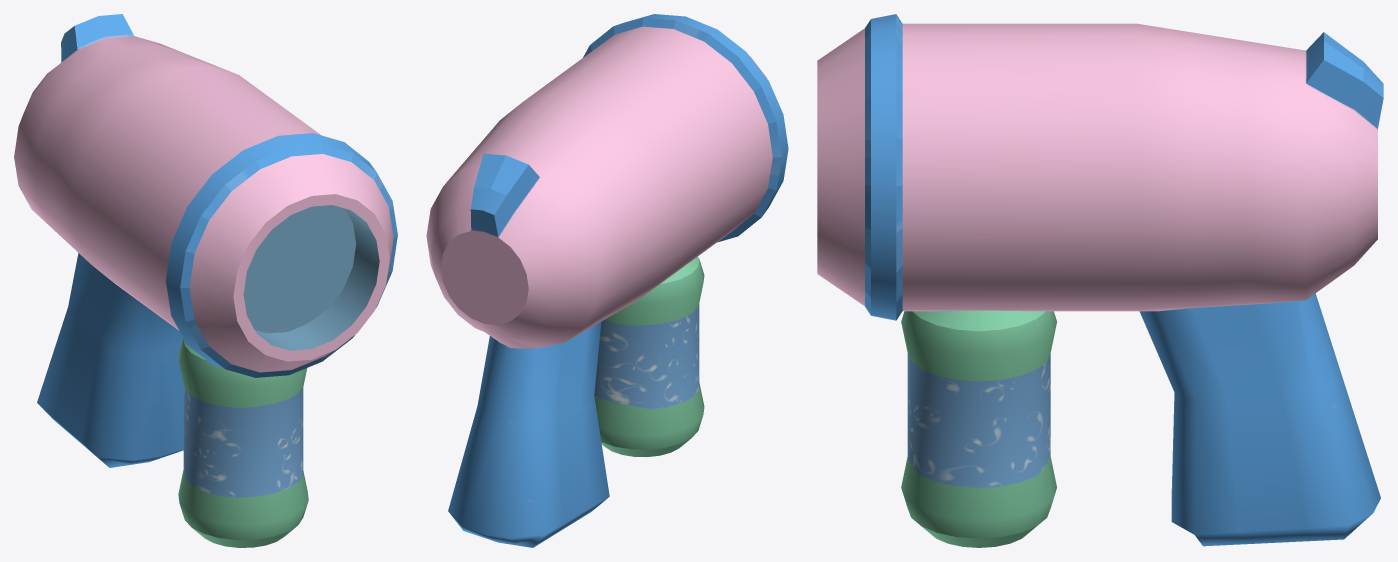
File: gun.obj
3 views of the same model, side by side, from view 1: azimuth 30°, elevation 25°; view 2: azimuth 150°, elevation 25°; view 3: azimuth 270°, elevation 25° (orthographic). The views are drawn at different scales.
Visible parts, largest first — view 1: gun; view 2: gun; view 3: gun.
Part boxes in pixels (x1=…): gun: x1=14, y1=14, x2=397, y2=547; gun: x1=426, y1=14, x2=788, y2=547; gun: x1=817, y1=14, x2=1383, y2=547.
Size of the model in its own units: 4.85 by 8.66 by 8.89.
